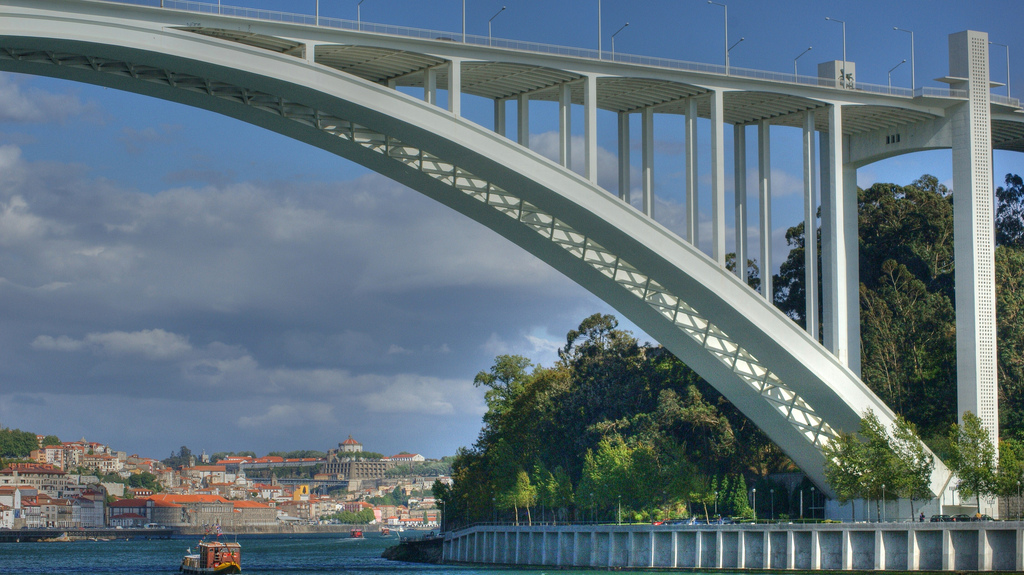arrabida: (0, 0, 1023, 521)
